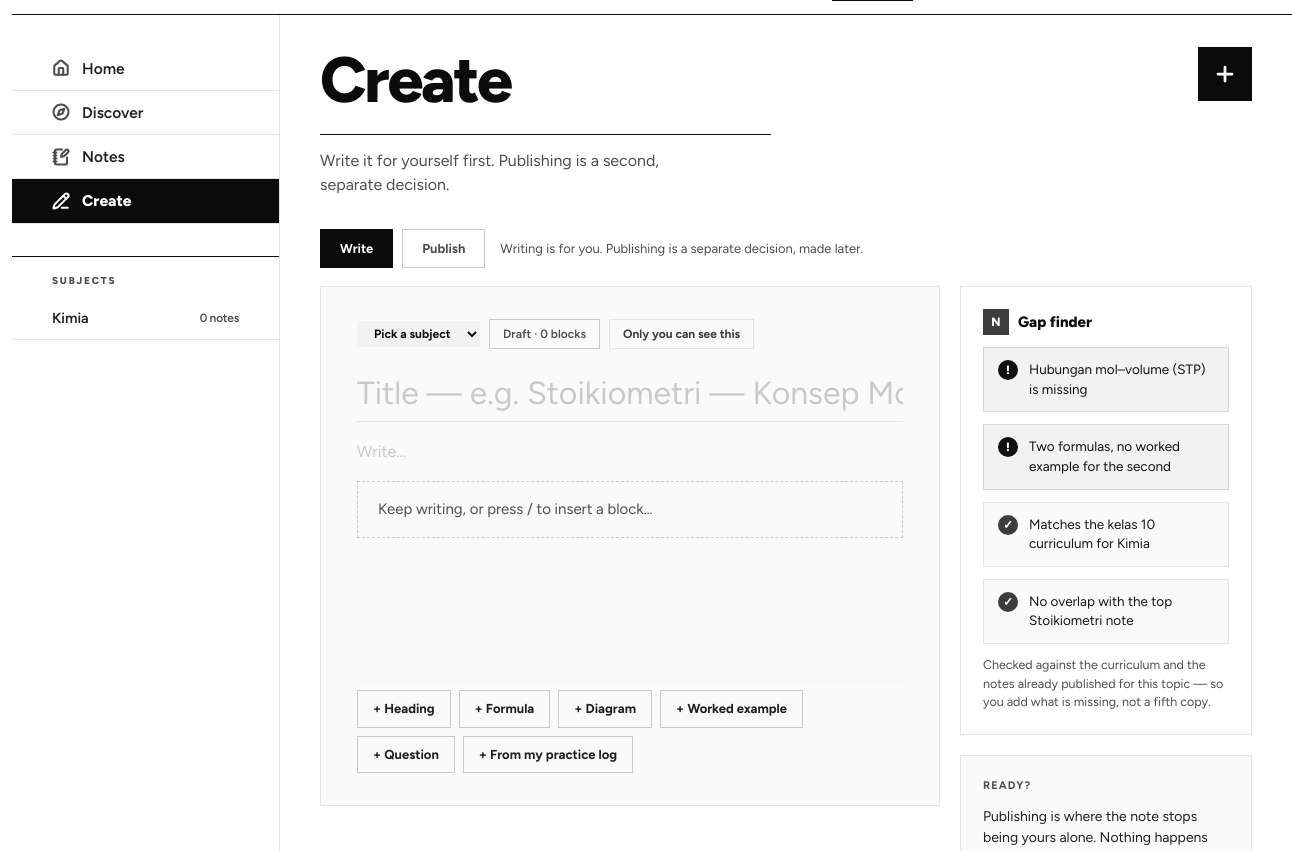
Test case: Create posts main's note contract (R3) › publishes the block text as extracted_text + content (+ a description), tags as an array, and hands over to Notes with the flash
This screenshot has width=1292, height=851.
Select "Kimia" in the dropdown named "Subject" at (418, 334), box left=357, top=321, right=480, bottom=347
Type "Stoikiometri" into the field labelled "Title".
click(630, 394); type("Stoikiometri")  # box left=357, top=365, right=903, bottom=422
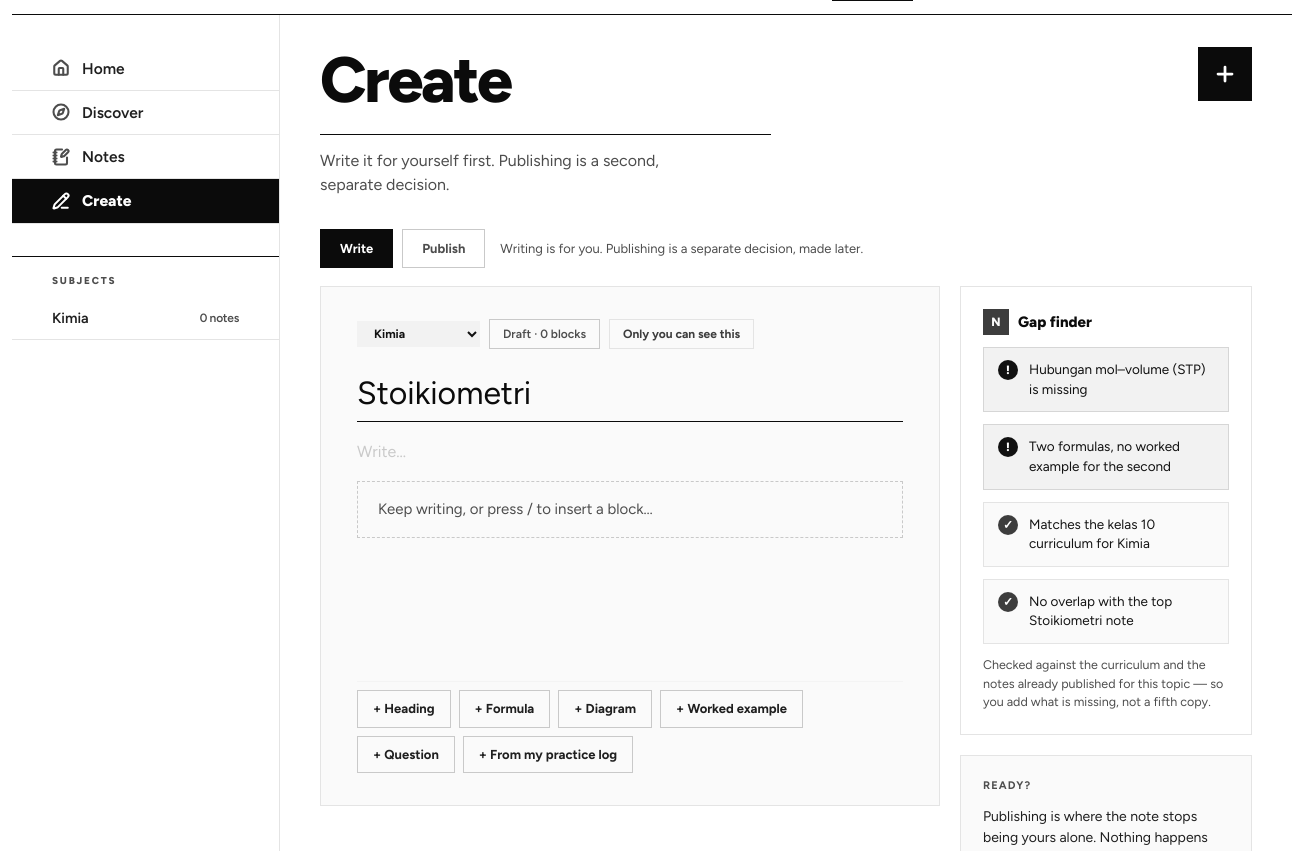
Type "Mol adalah satuan jumlah zat." into the text box named "Paragraph".
click(630, 452); type("Mol adalah satuan jumlah zat.")  # box left=357, top=438, right=903, bottom=465
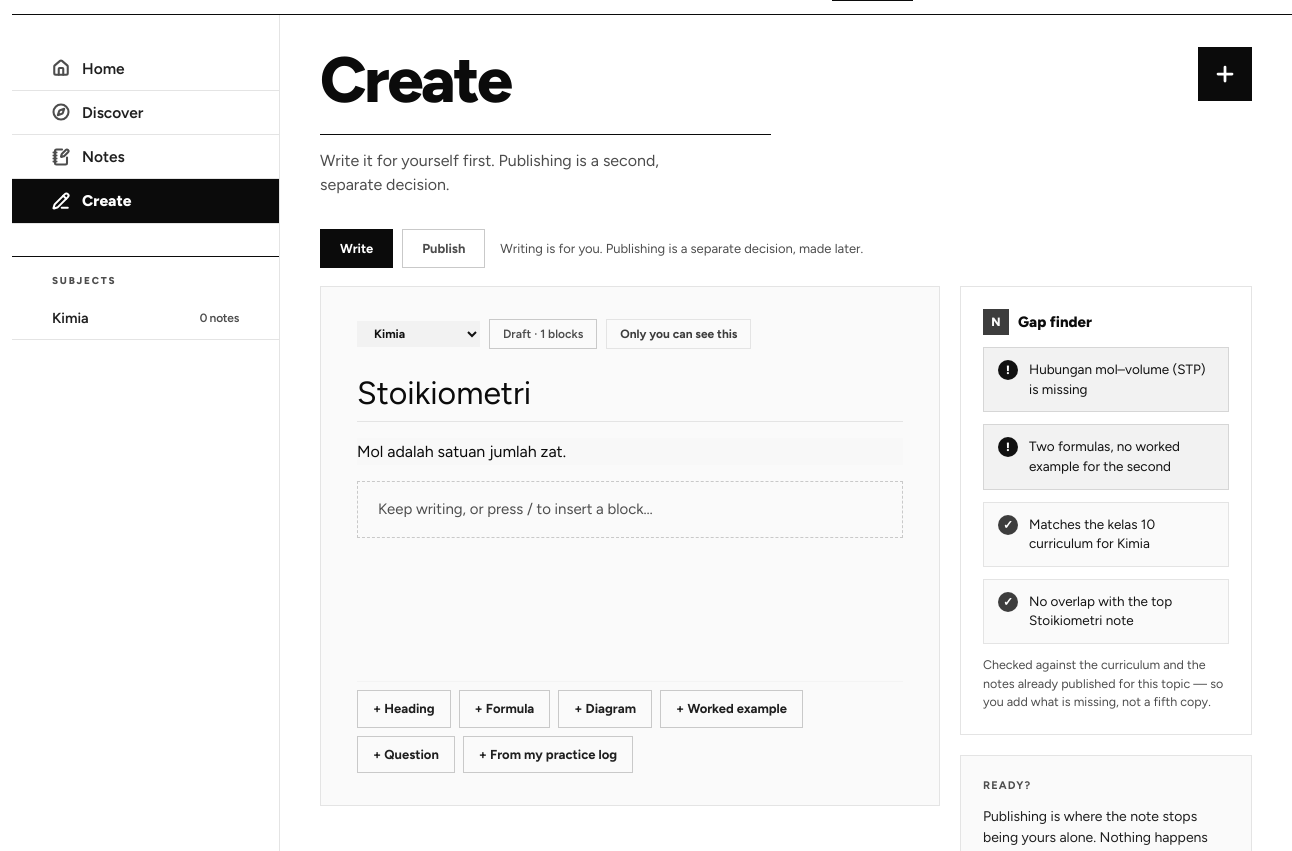
Click the button "+ Formula".
click(504, 709)  # box left=458, top=690, right=550, bottom=728
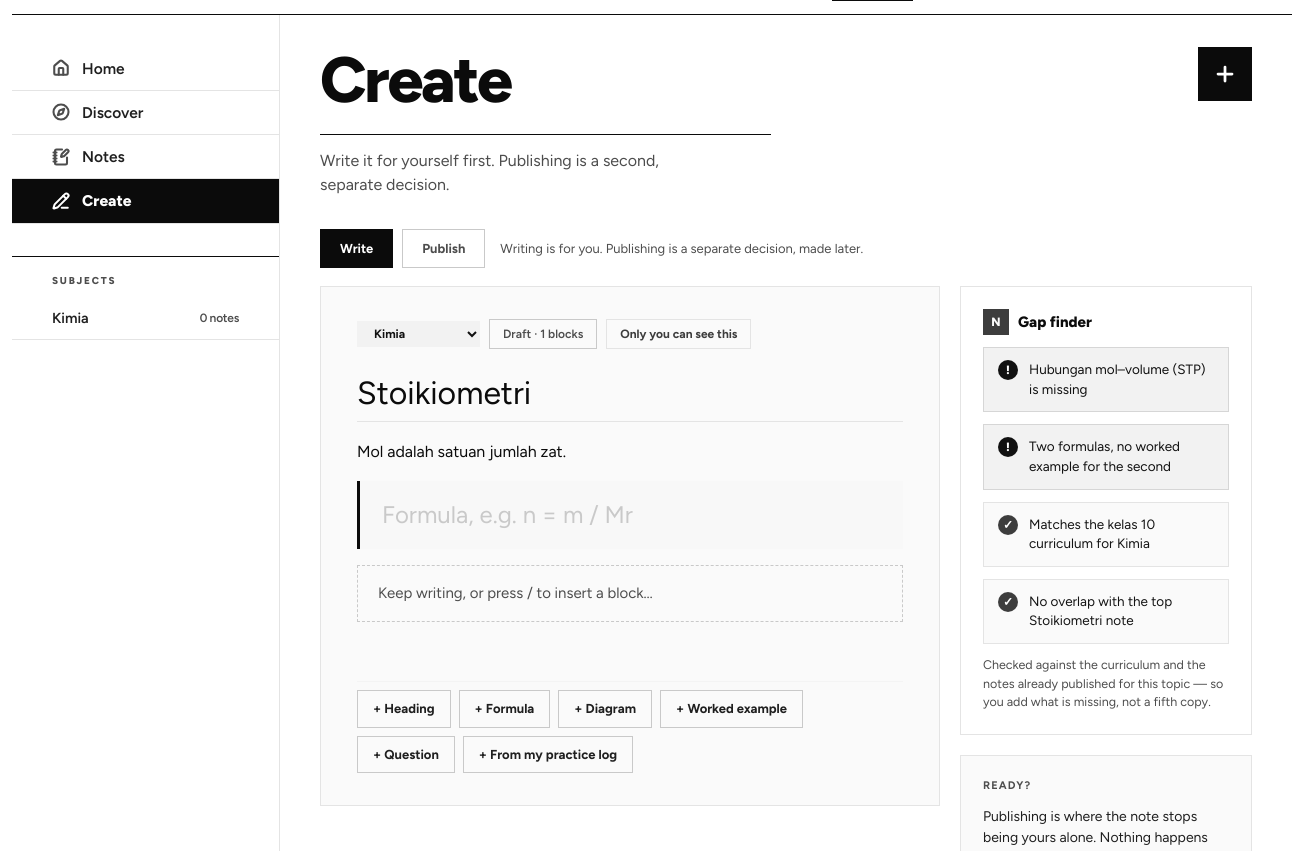
Type "n = m / Mr" into the text box labelled "Formula".
click(630, 515); type("n = m / Mr")  # box left=357, top=481, right=903, bottom=549
(page scrolled)
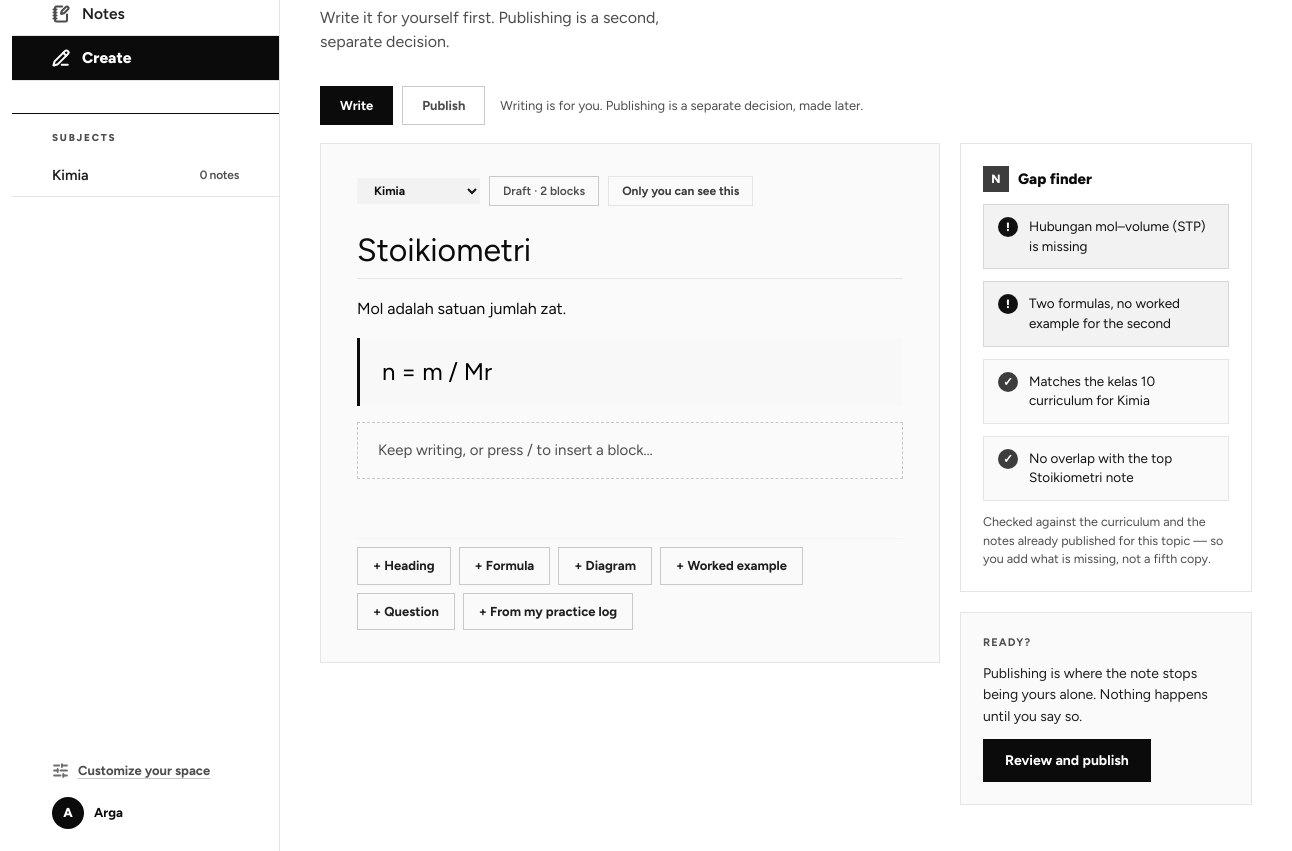
Click the button "Review and publish".
click(1067, 760)  # box left=983, top=739, right=1151, bottom=782
(page scrolled)
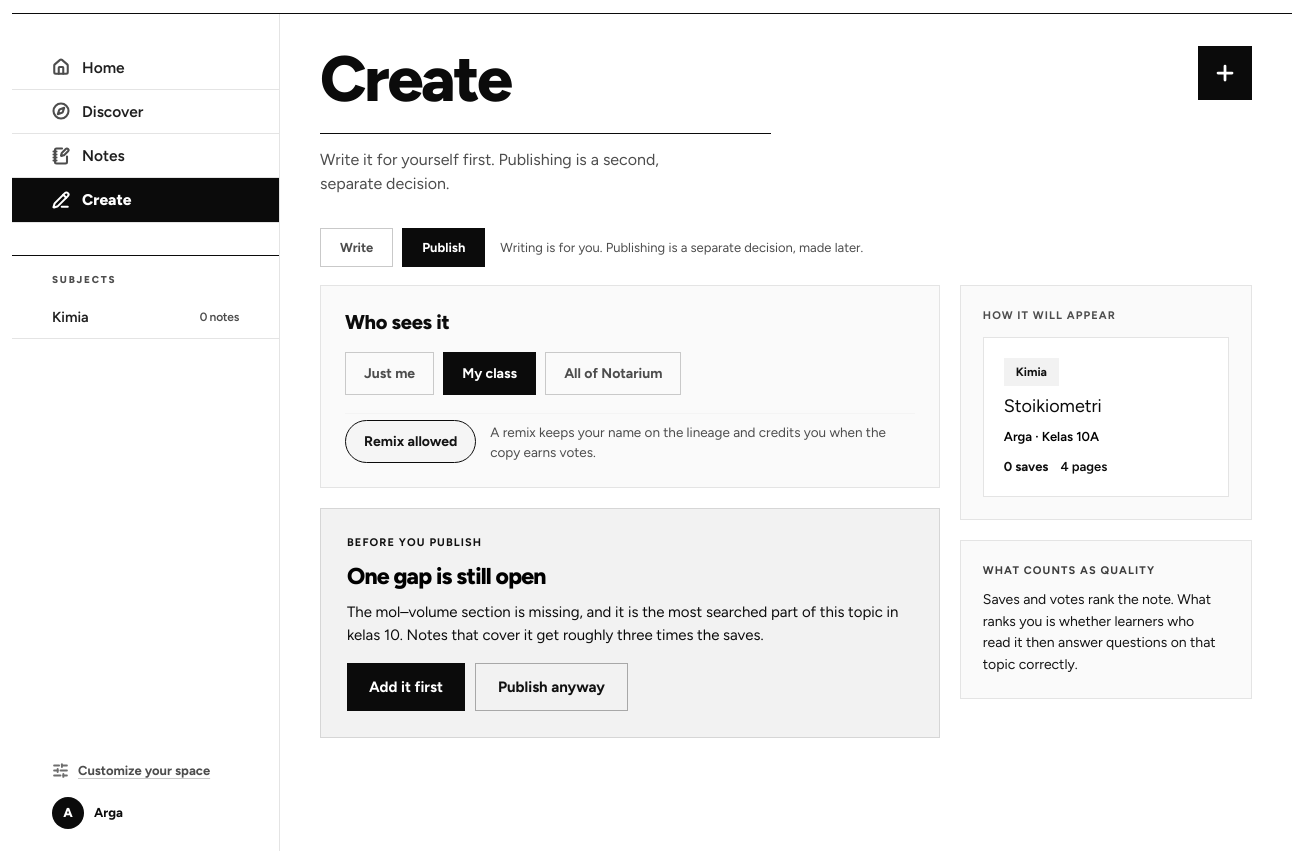
Click the button "Publish anyway".
click(551, 687)  # box left=475, top=663, right=628, bottom=711
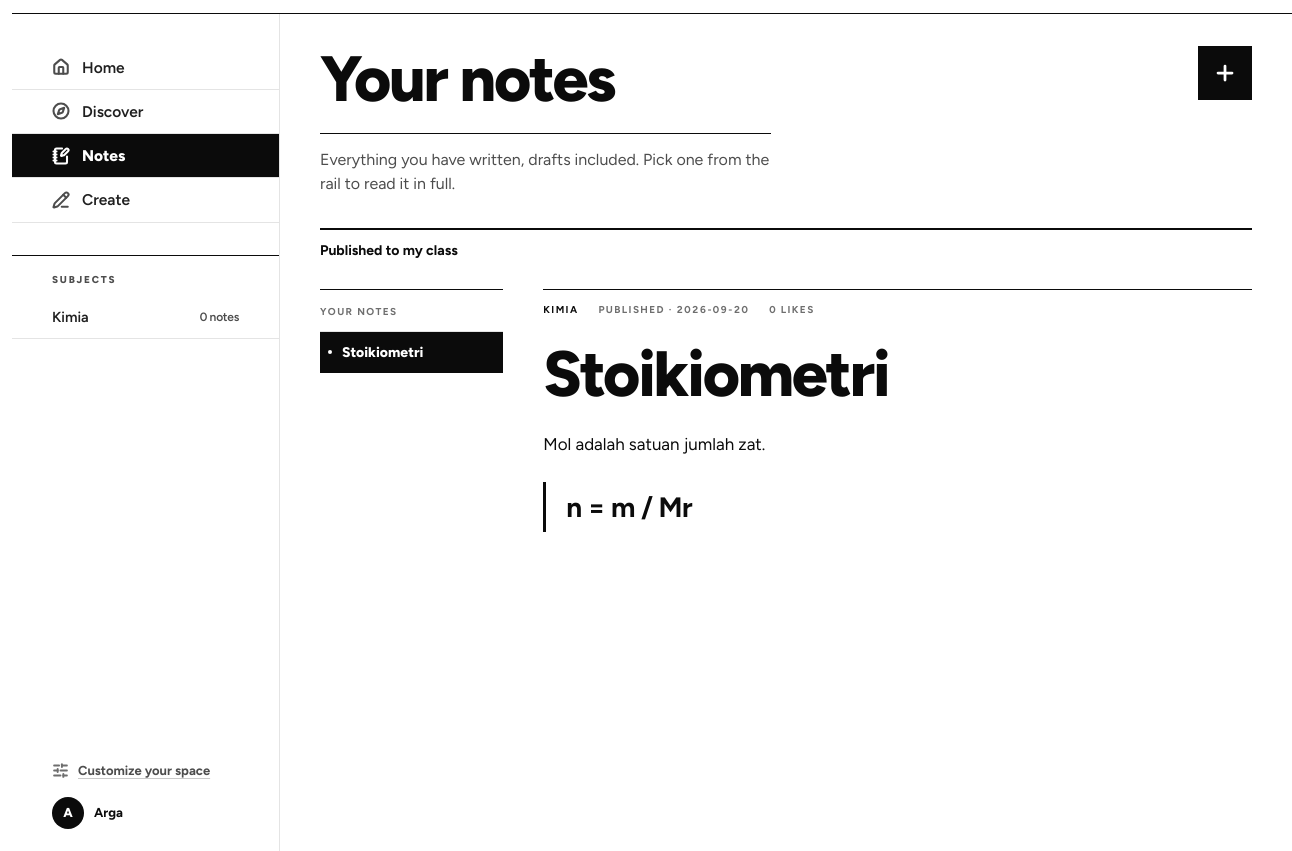
Check: the message reads "Published to my class", box left=320, top=242, right=458, bottom=259
Check: the text "n = m / Mr" is shown, box left=543, top=482, right=1252, bottom=532
Check: the text "Mol adalah satuan jumlah zat." is shown once, box left=543, top=434, right=765, bottom=454
